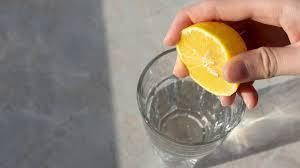lemon: (176, 21, 248, 96)
